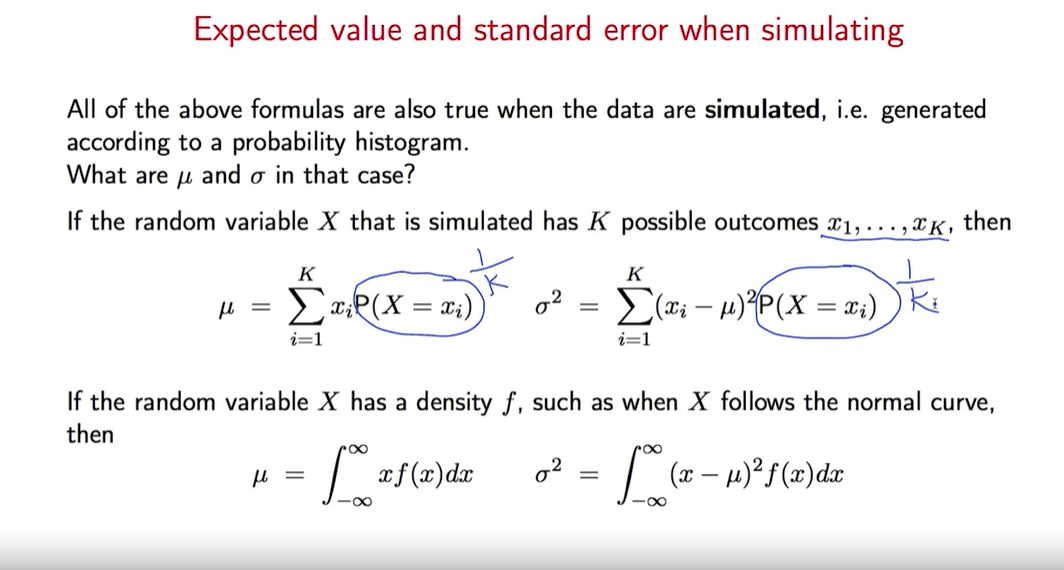equation: (532, 266, 879, 356), (219, 265, 475, 351), (531, 445, 843, 512), (233, 445, 478, 512)
text: (62, 95, 990, 159), (63, 389, 996, 445), (61, 207, 1012, 239), (193, 14, 905, 51), (65, 162, 420, 189)
